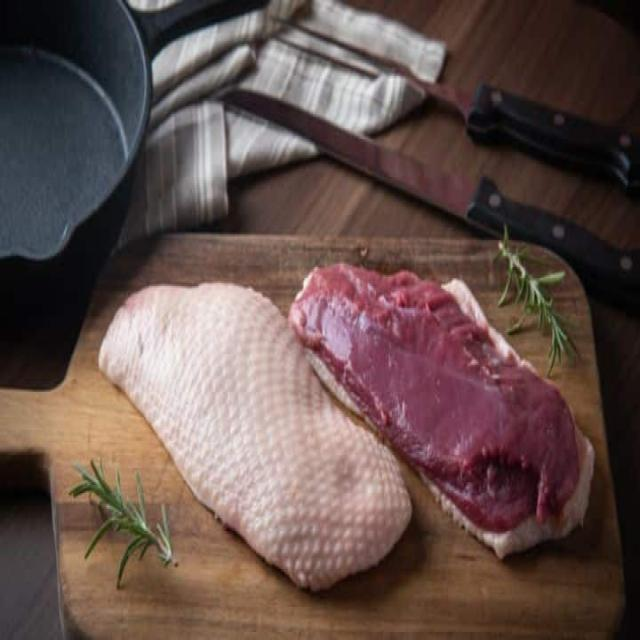duck: (99, 264, 595, 590)
